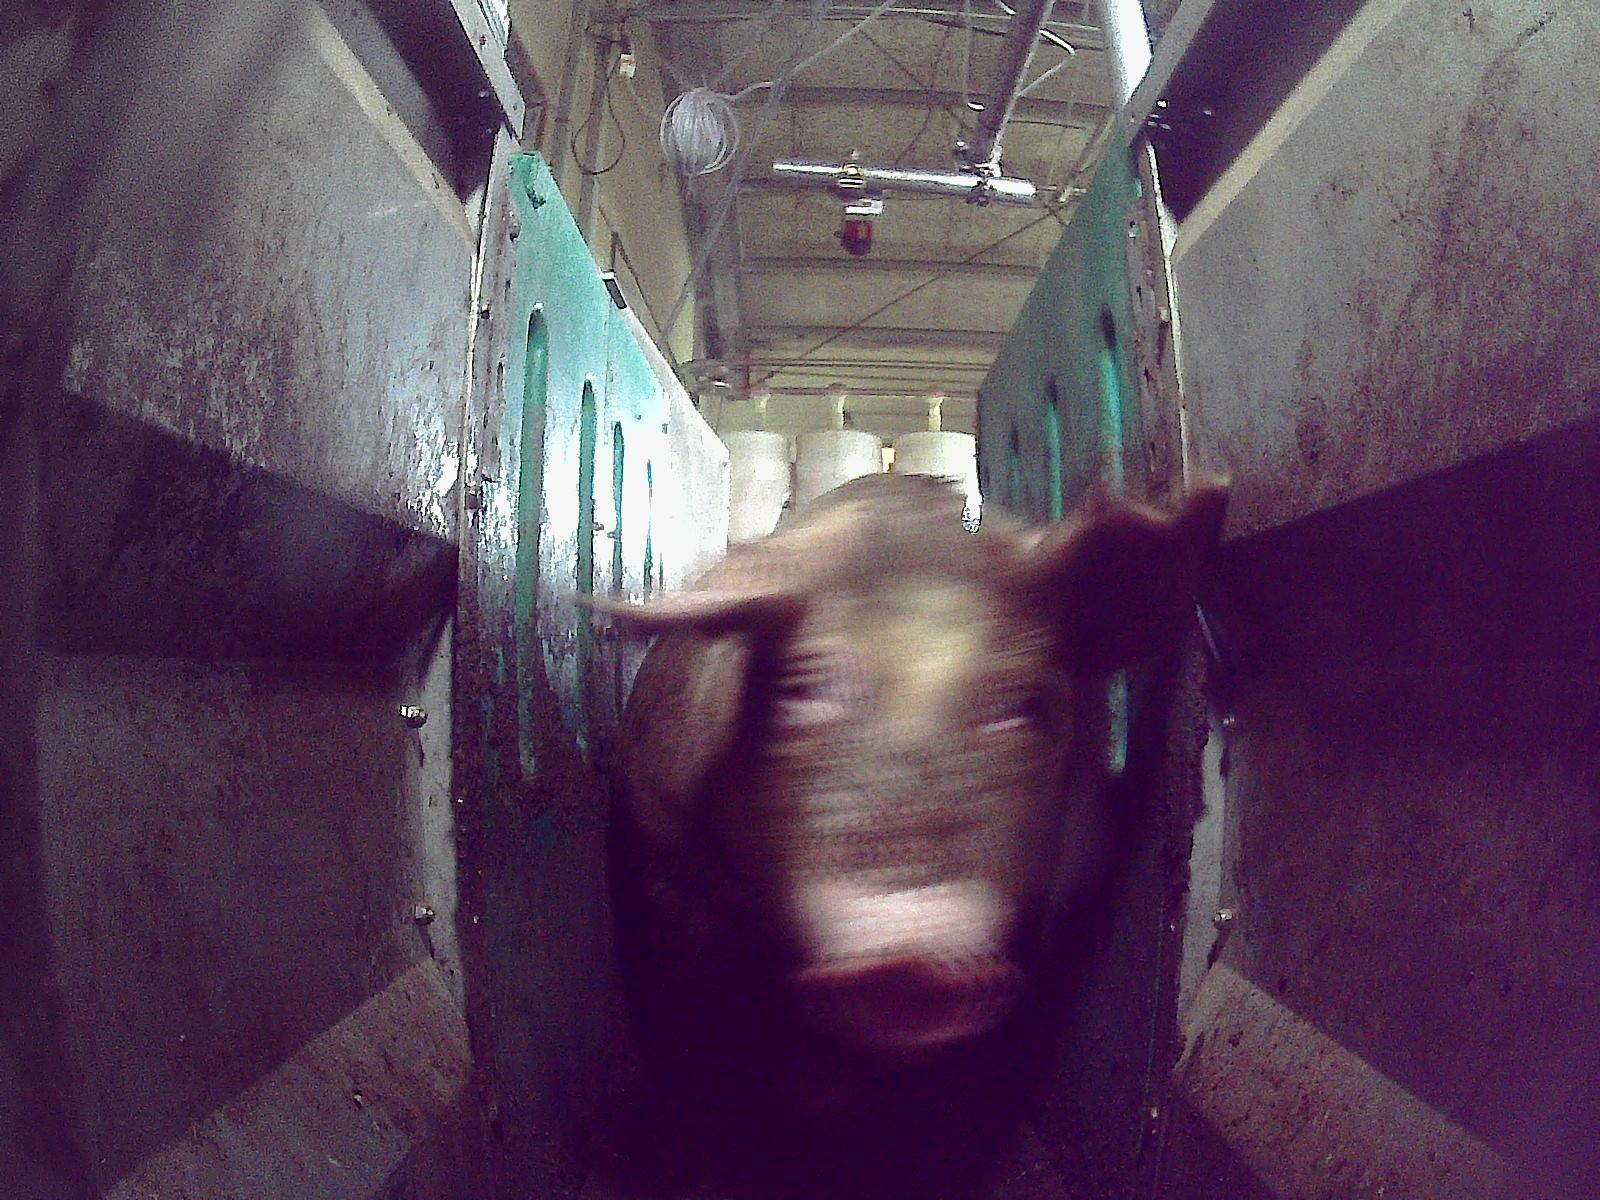Face: (746, 504, 1081, 1066)
